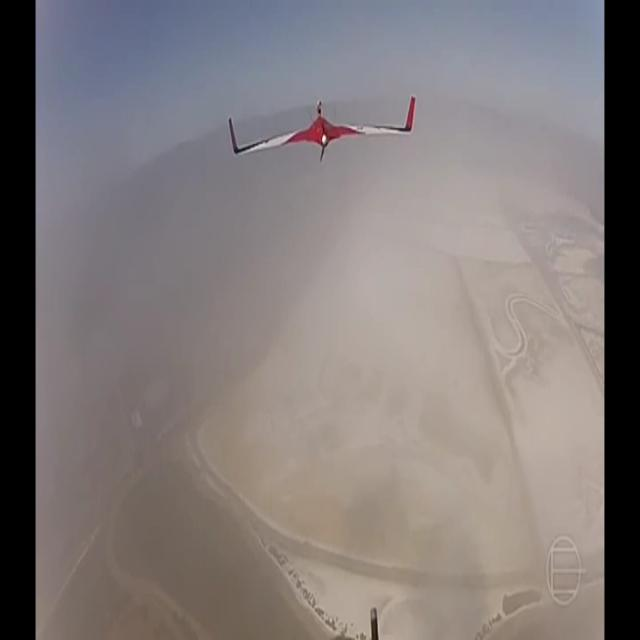iha: (227, 129, 416, 133)
